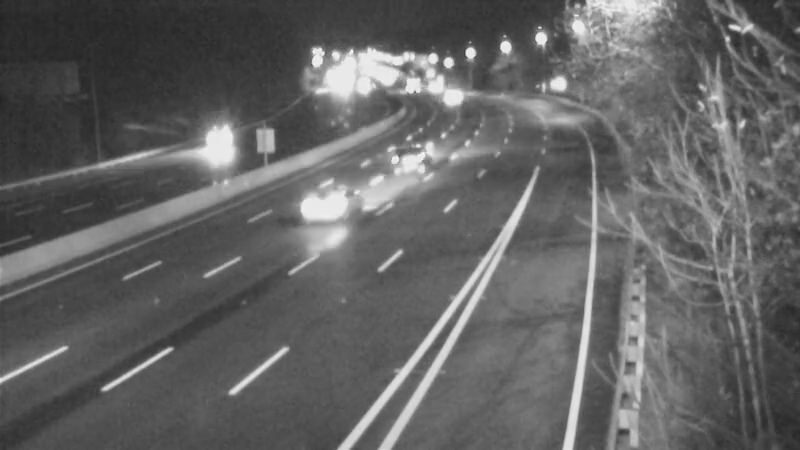vehicle: (296, 167, 376, 247), (387, 57, 437, 107), (428, 75, 478, 125), (377, 123, 427, 173), (208, 122, 258, 172)
